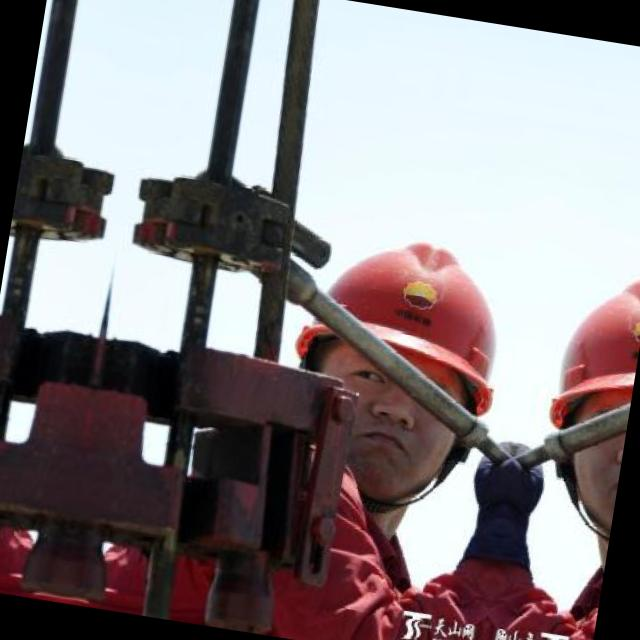helmet: (250, 195, 538, 512), (512, 235, 640, 530)
